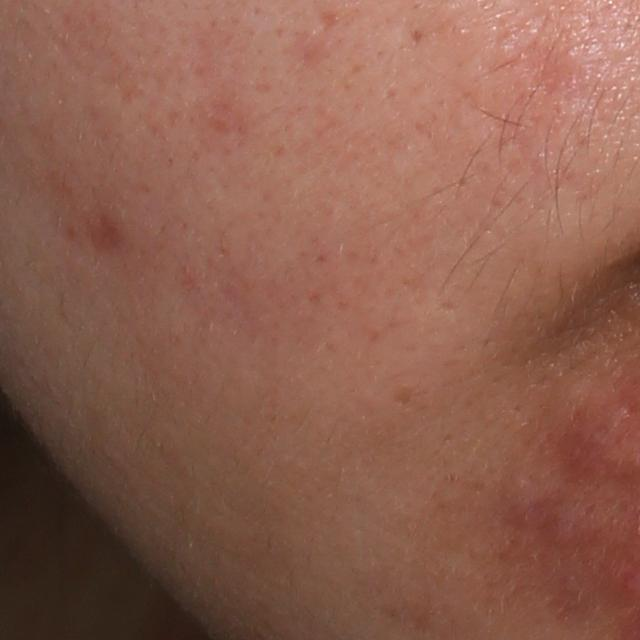papule: (543, 493, 594, 555), (499, 473, 547, 528)
